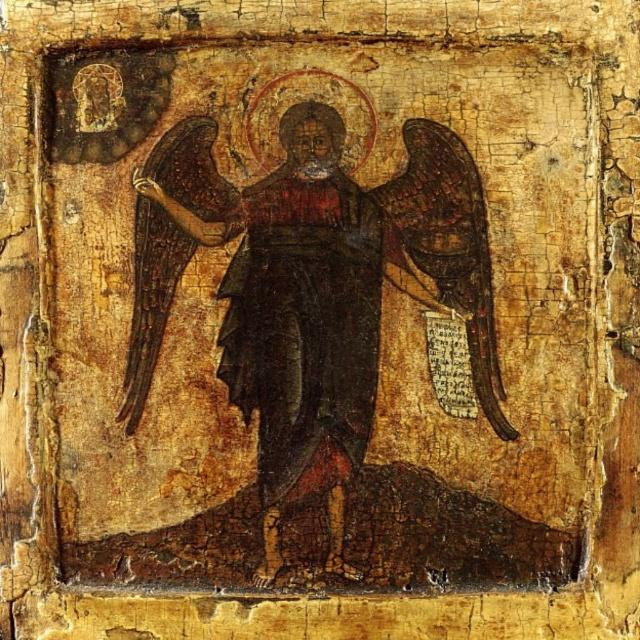angel: (116, 55, 562, 584)
aura: (241, 64, 379, 176)
scroll: (408, 302, 489, 428)
wing: (371, 101, 527, 436), (96, 108, 241, 440)
